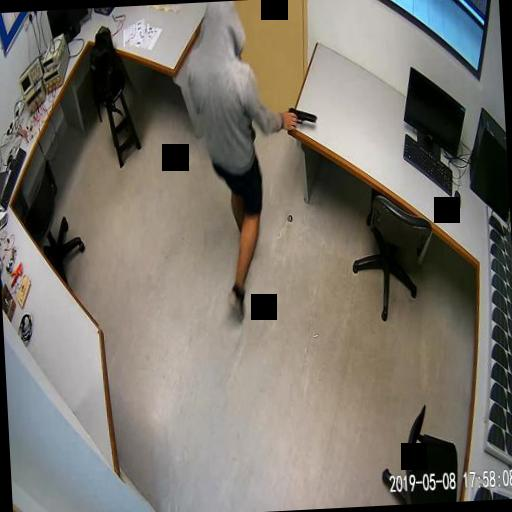Handgun: (288, 104, 316, 131)
